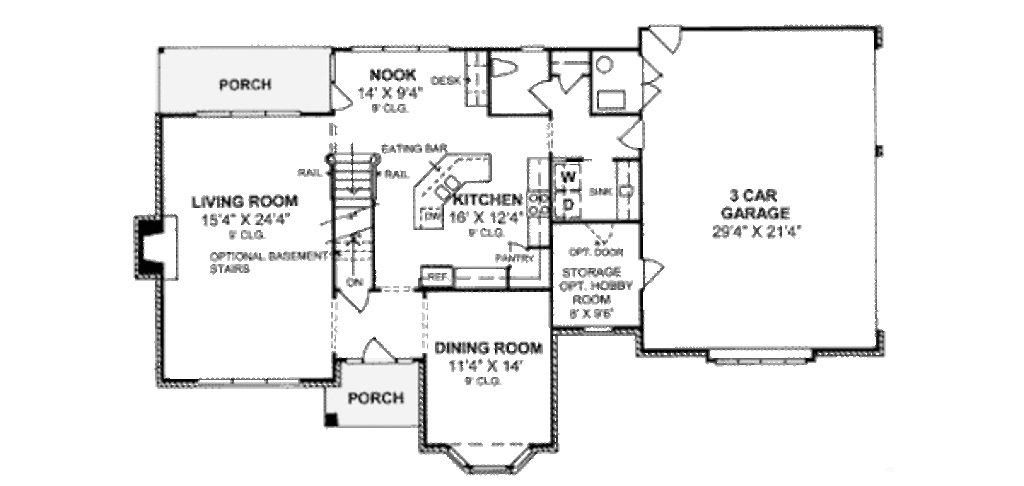door: (634, 56, 666, 115), (644, 20, 690, 56), (359, 335, 399, 368), (636, 249, 664, 293), (609, 118, 648, 148), (525, 79, 554, 113), (323, 83, 351, 112)
kitchen_bar: (411, 151, 498, 236)
large_sink: (489, 54, 524, 83)
stairs: (325, 146, 378, 296)
window: (443, 439, 536, 479), (703, 343, 820, 368), (194, 108, 310, 126), (187, 373, 304, 390), (347, 40, 452, 56)
